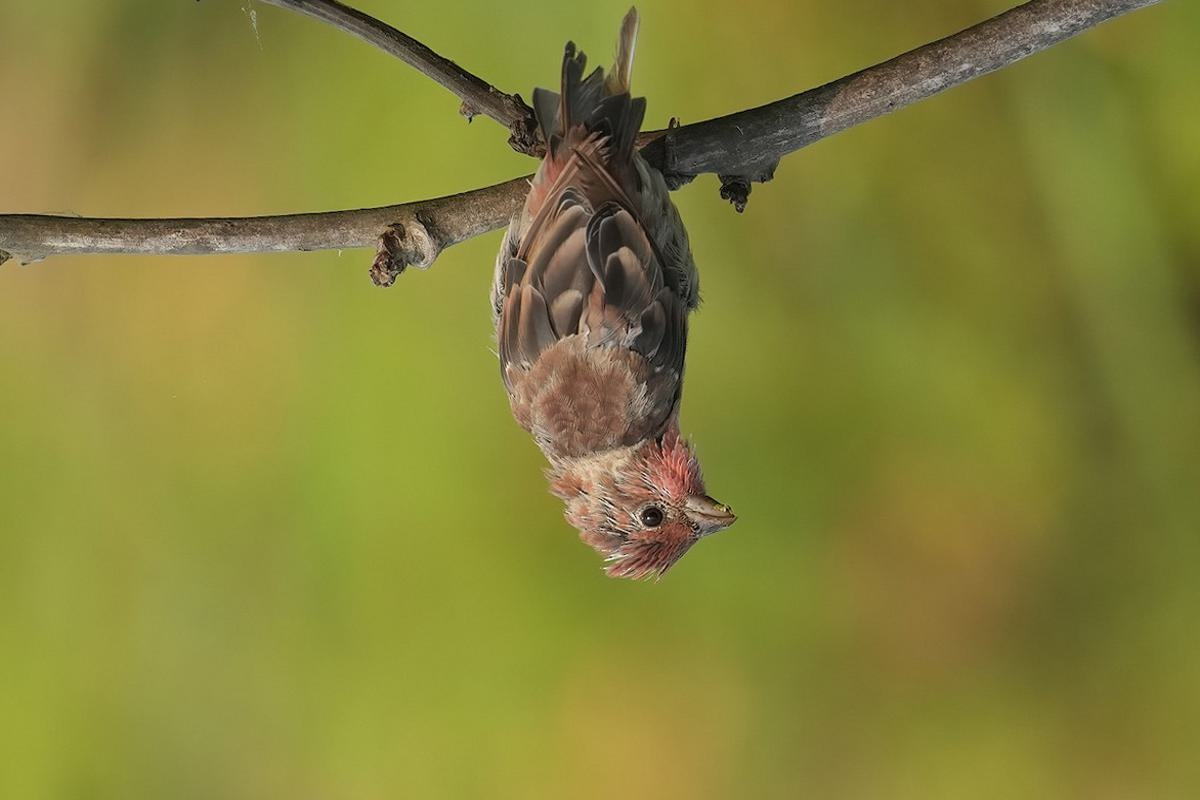rosefinch: (488, 76, 764, 601)
